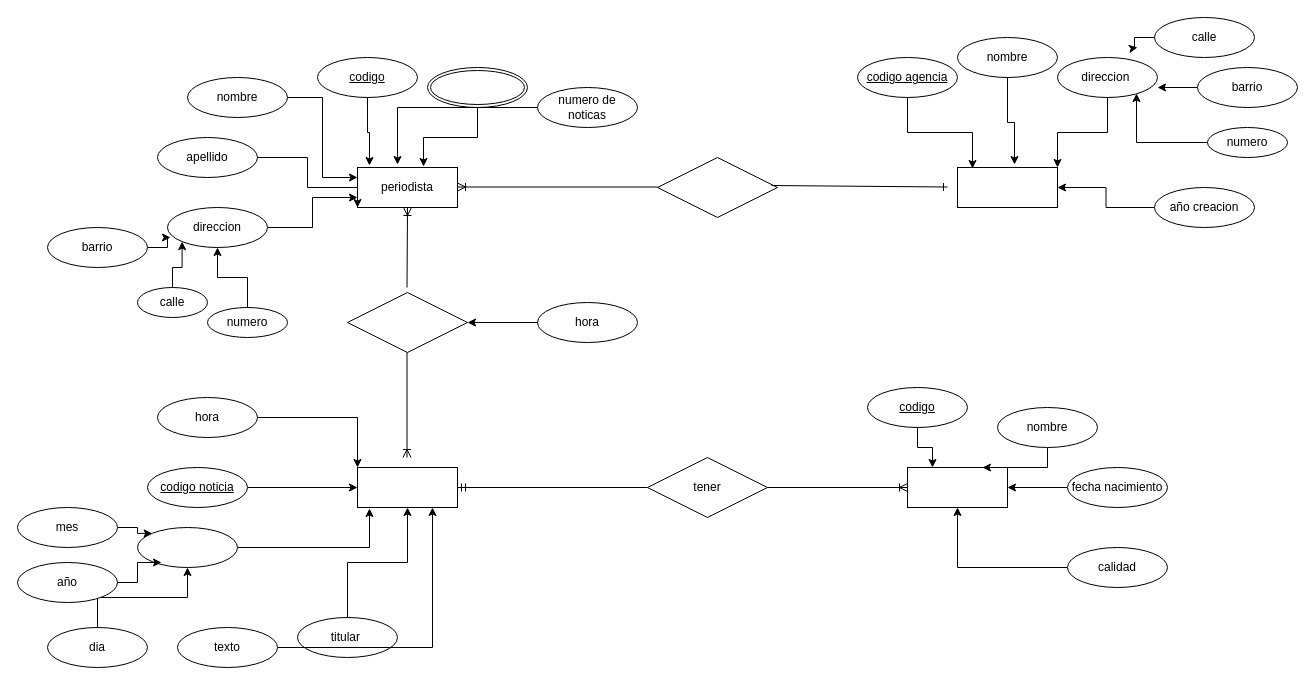
Image size: 1315x685. Some labels were removed from this diagram. Each missing label, with the box of its shape:
agencia: (956, 166, 1058, 208)
cubre: (346, 292, 468, 352)
fecha: (136, 526, 238, 568)
implicado: (906, 466, 1008, 508)
noticias: (356, 466, 458, 508)
telefono: (426, 66, 528, 108)
trabaja: (656, 156, 778, 218)
